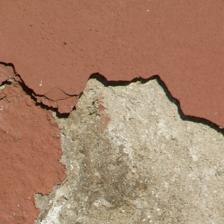Crack: (96, 66, 223, 134), (1, 56, 83, 119)
